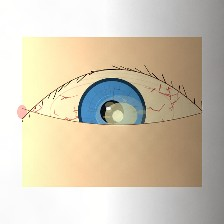corneal_ulcer: (95, 94, 148, 137)
